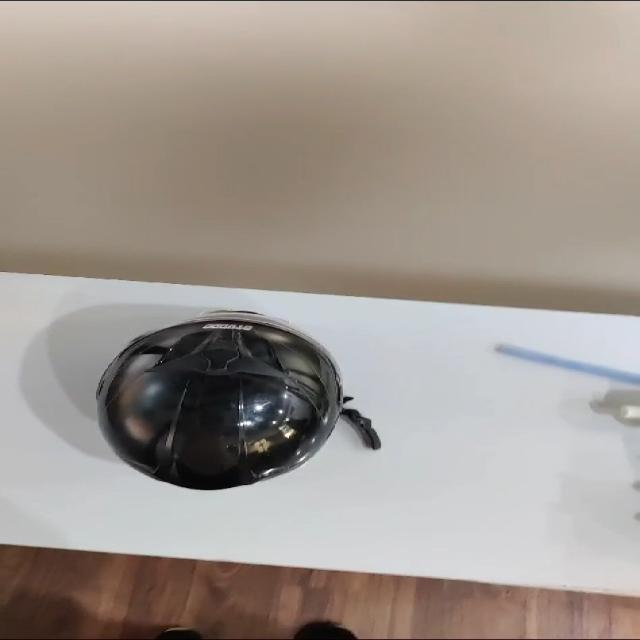helmet: (73, 309, 340, 500)
